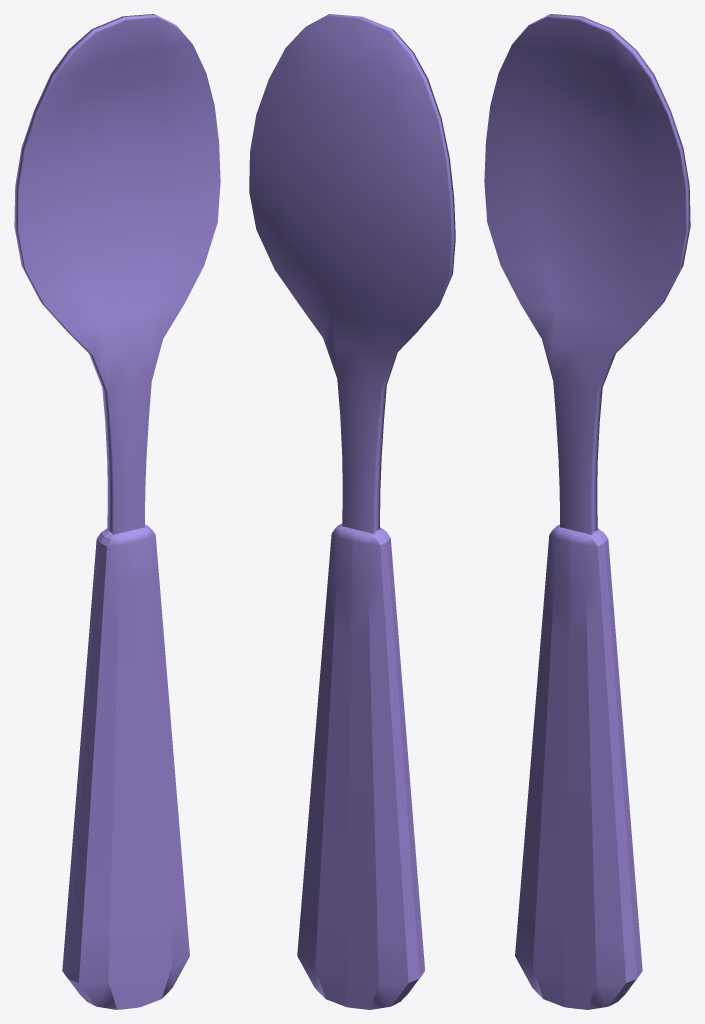
The model's file is PROPS_OTHER_SPOON_MODEL.fbx.
3 renders of one model, left to right at view 1: azimuth 30°, elevation 25°; view 2: azimuth 150°, elevation 25°; view 3: azimuth 330°, elevation 25°, orthographic.
Parts seen in each view (by area): view 1: PROPS_OTHER_SPOON_MODEL; view 2: PROPS_OTHER_SPOON_MODEL; view 3: PROPS_OTHER_SPOON_MODEL.
Boxes of the visible parts, x1,y1,x2,y2 form: PROPS_OTHER_SPOON_MODEL: [14, 14, 220, 1009]; PROPS_OTHER_SPOON_MODEL: [249, 14, 455, 1009]; PROPS_OTHER_SPOON_MODEL: [484, 14, 690, 1009].
Size of the model in its own units: 3.78 by 17.65 by 1.03.
